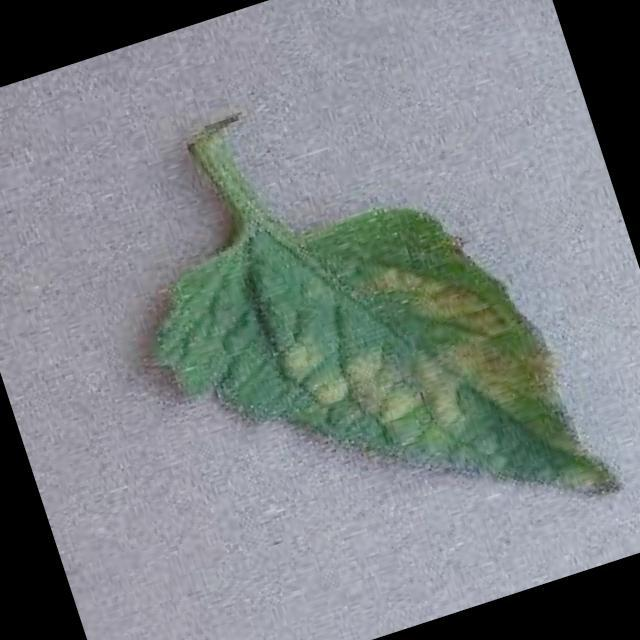Tomato mold leaf: (126, 158, 624, 622)
